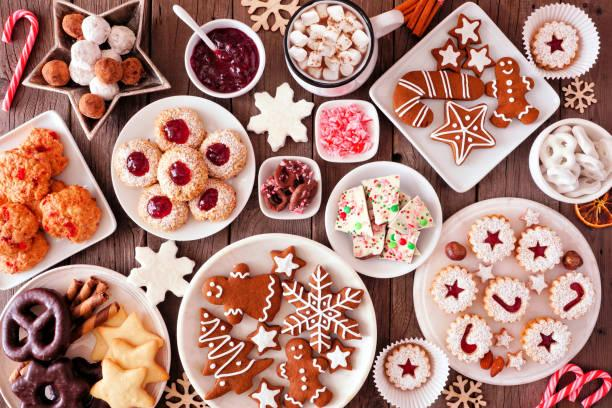Braised Crucian Carp: (367, 1, 556, 193), (411, 197, 601, 387), (176, 234, 374, 407), (0, 264, 170, 407), (109, 94, 250, 242), (1, 109, 117, 285), (323, 161, 438, 278)
